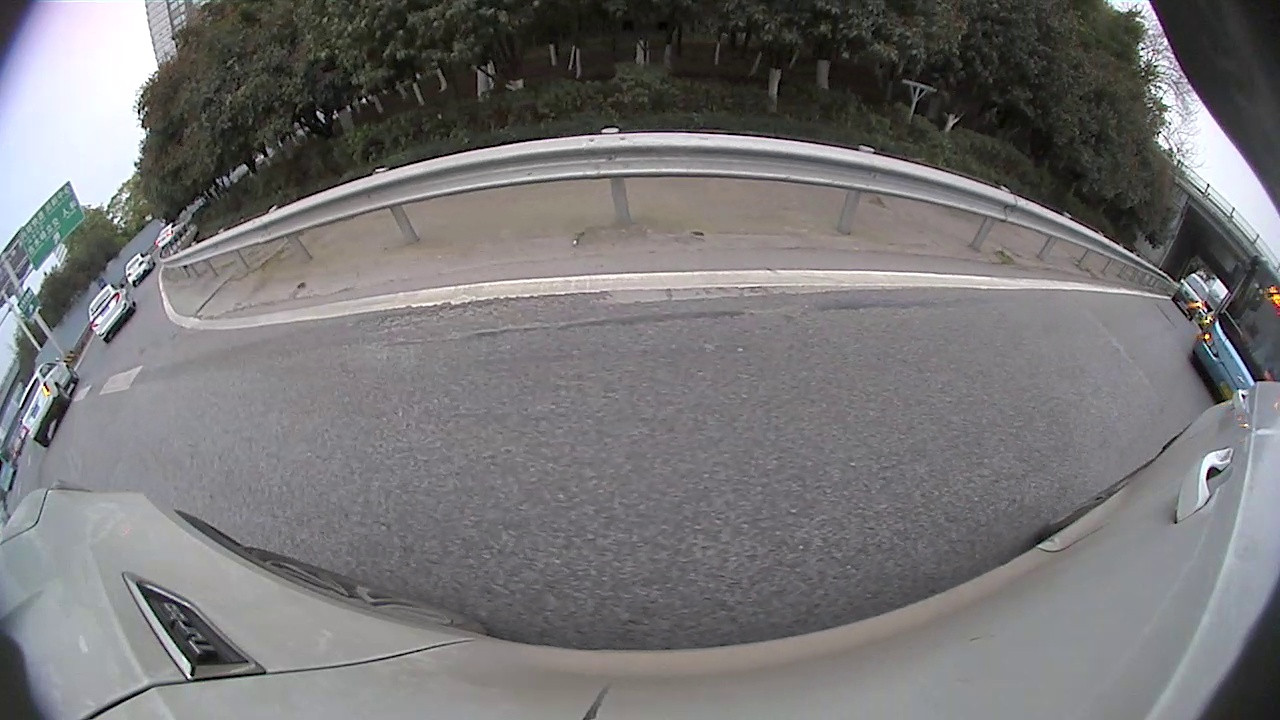bus: (1191, 253, 1278, 408)
car: (9, 356, 82, 451), (83, 279, 141, 343), (1173, 267, 1215, 320), (121, 251, 159, 284)
rear: (56, 385, 73, 403)
